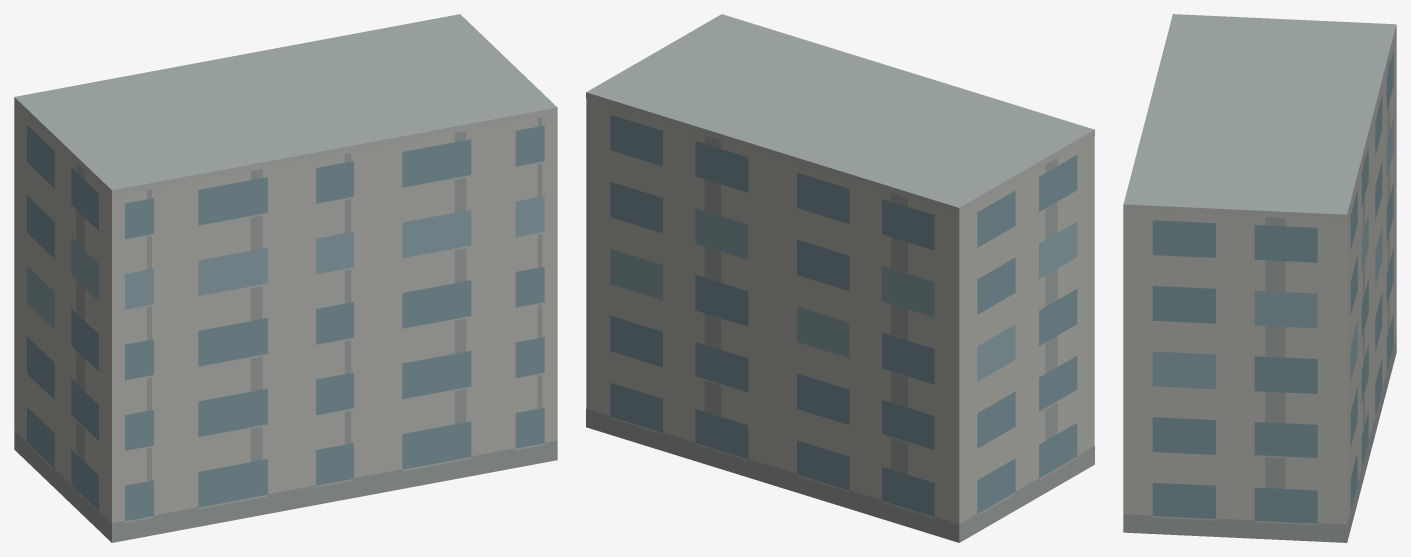
The model's file is survey-upis-32573579.glb.
3 views of the same model, side by side, from view 1: azimuth 30°, elevation 25°; view 2: azimuth 150°, elevation 25°; view 3: azimuth 270°, elevation 25° (orthographic). The views are drawn at different scales.
Parts seen in each view (by area): view 1: survey-upis-32573579.tmp; view 2: survey-upis-32573579.tmp; view 3: survey-upis-32573579.tmp.
Part boxes in pixels (x1,y1,x2,y2): survey-upis-32573579.tmp: (14, 14, 557, 542); survey-upis-32573579.tmp: (586, 14, 1094, 542); survey-upis-32573579.tmp: (1123, 14, 1396, 542).
Bounding box in the file's own units: 16.67 × 12.7 × 9.59.
